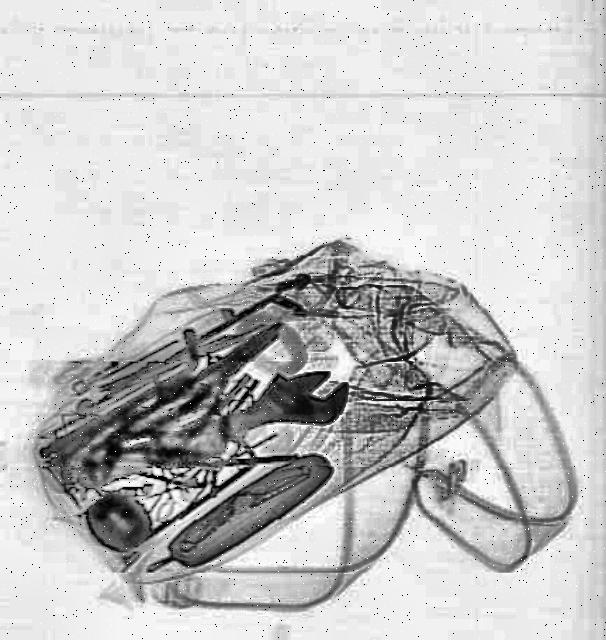Wrench: (67, 350, 358, 510)
